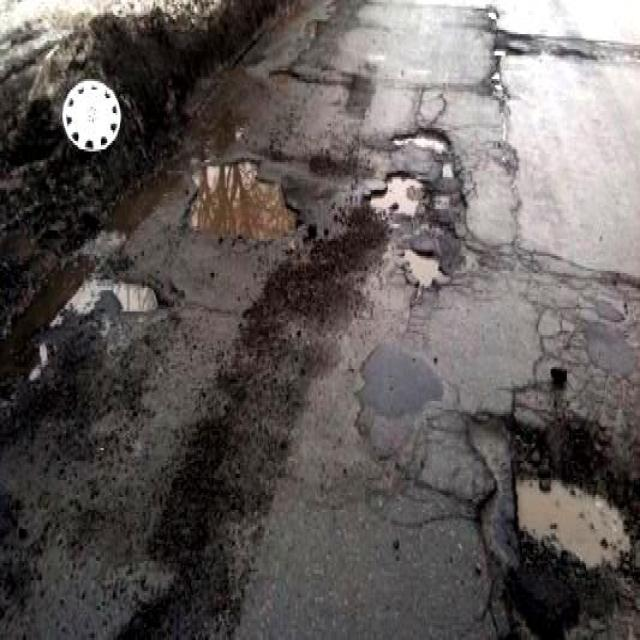pothole: (506, 408, 636, 580), (0, 213, 103, 396), (185, 156, 301, 243), (366, 164, 423, 218), (109, 271, 161, 316), (401, 241, 449, 288), (389, 124, 449, 156), (550, 44, 598, 61), (267, 64, 294, 87), (489, 67, 505, 97), (491, 44, 509, 58), (487, 8, 500, 22)
